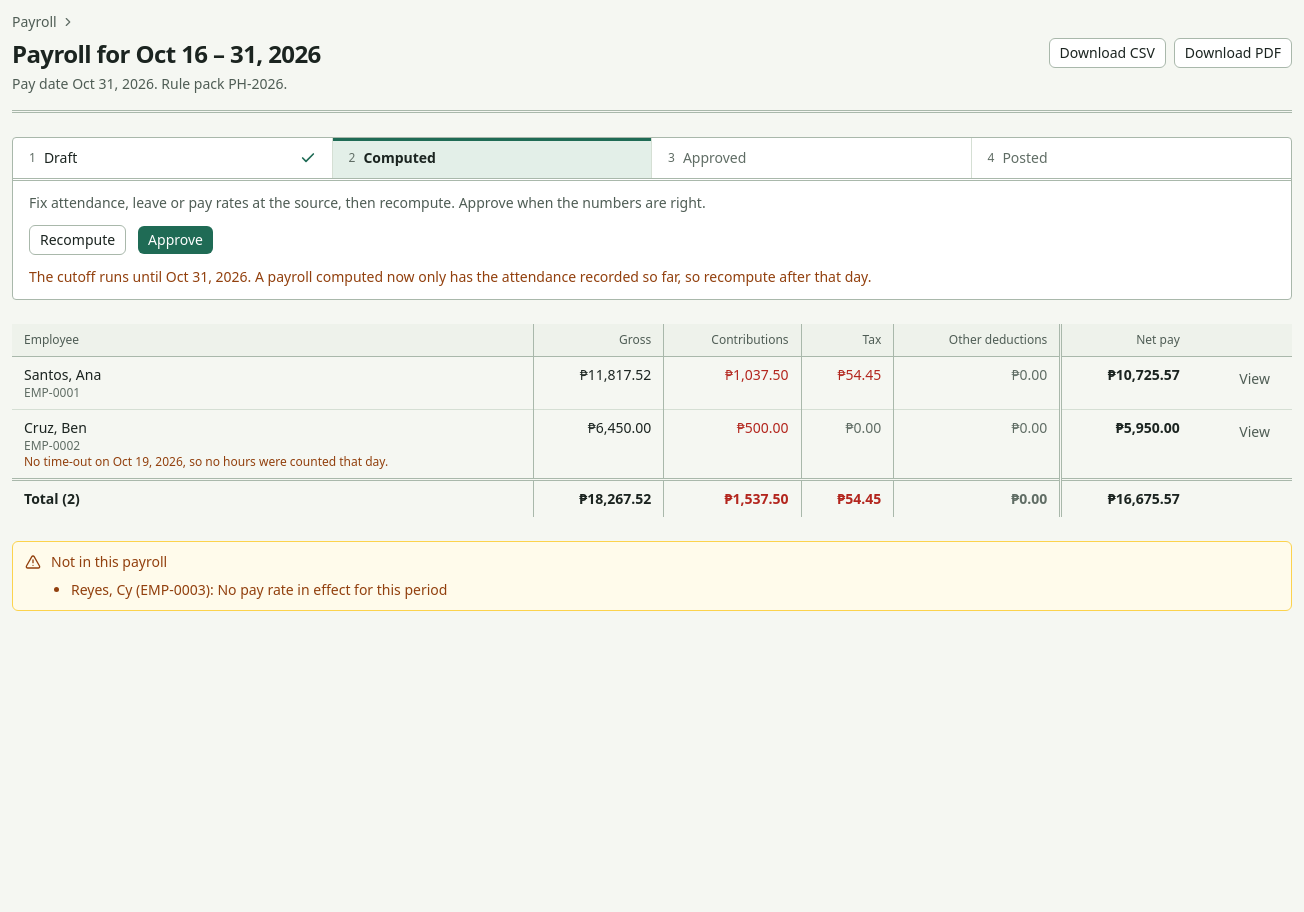
Test: RegisterPage › opens a payslip line by line
Click the button with aria-label "View payslip for Santos, Ana".
click(1255, 379)  # box [1229, 365, 1280, 393]
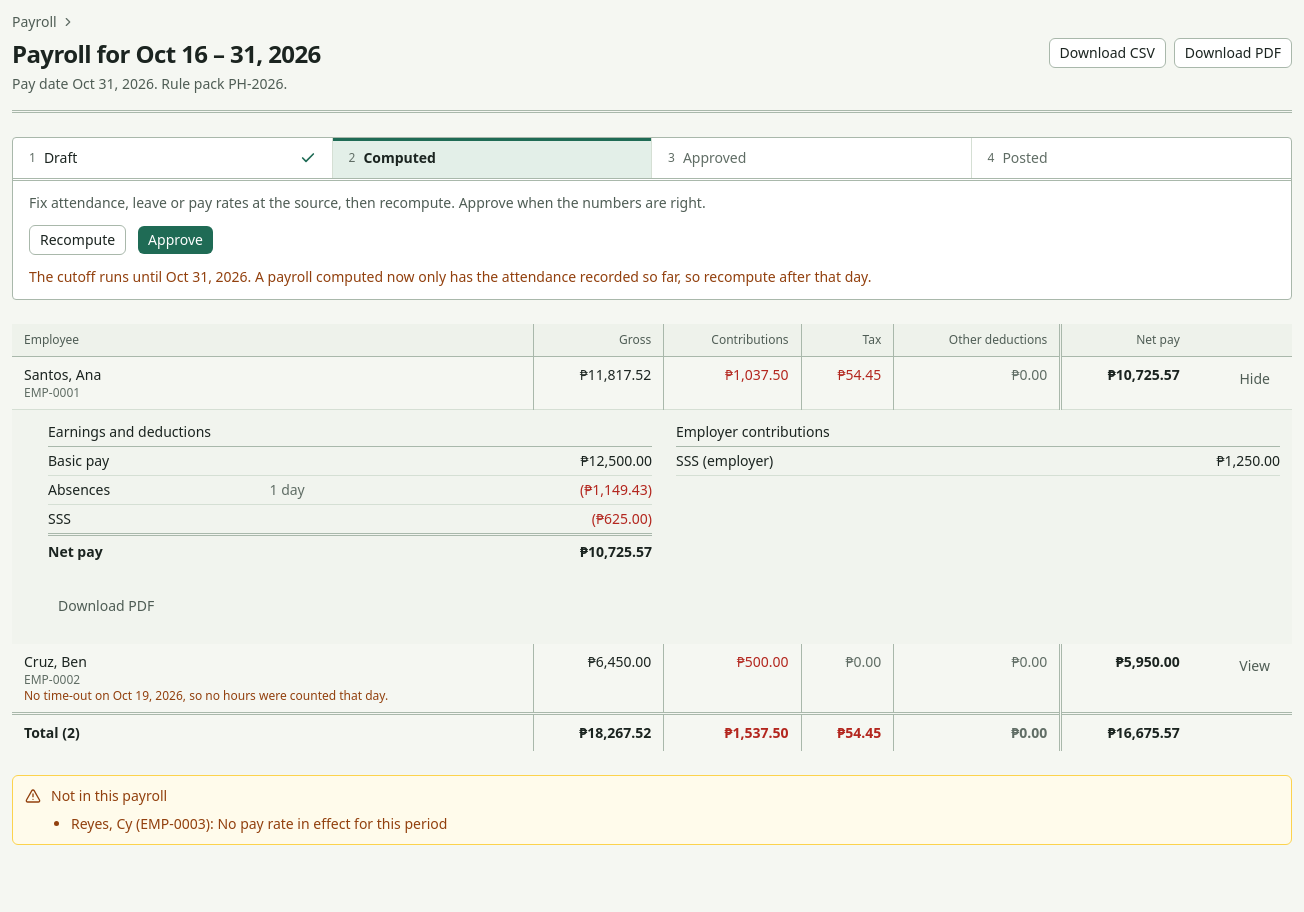
Now the text "1 day" is shown, box [270, 476, 395, 504]
Now the text "(₱1,149.43)" is shown, box [580, 480, 652, 499]
Now the text "SSS (employer)" is shown, box [676, 447, 1041, 476]
